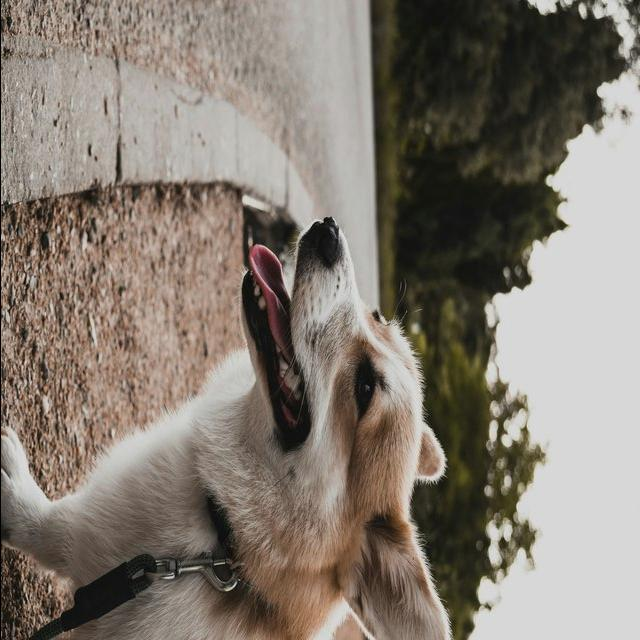corgi: (2, 216, 454, 640)
